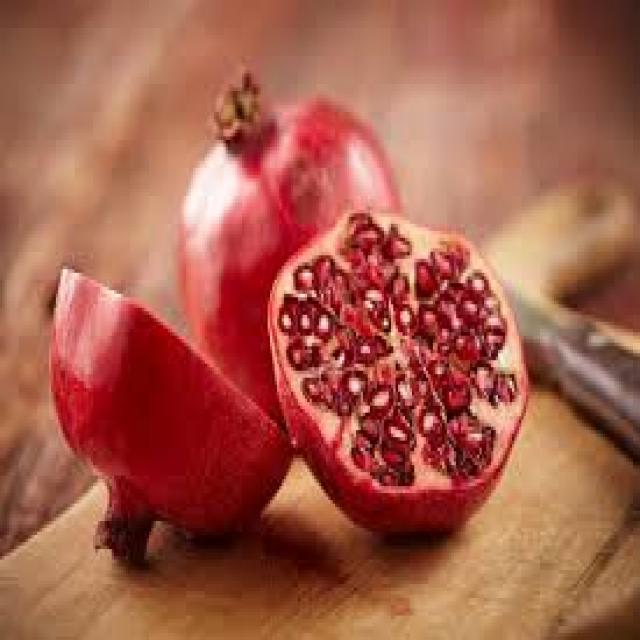organic waste: (265, 203, 526, 531), (175, 70, 398, 451), (49, 262, 288, 560)
